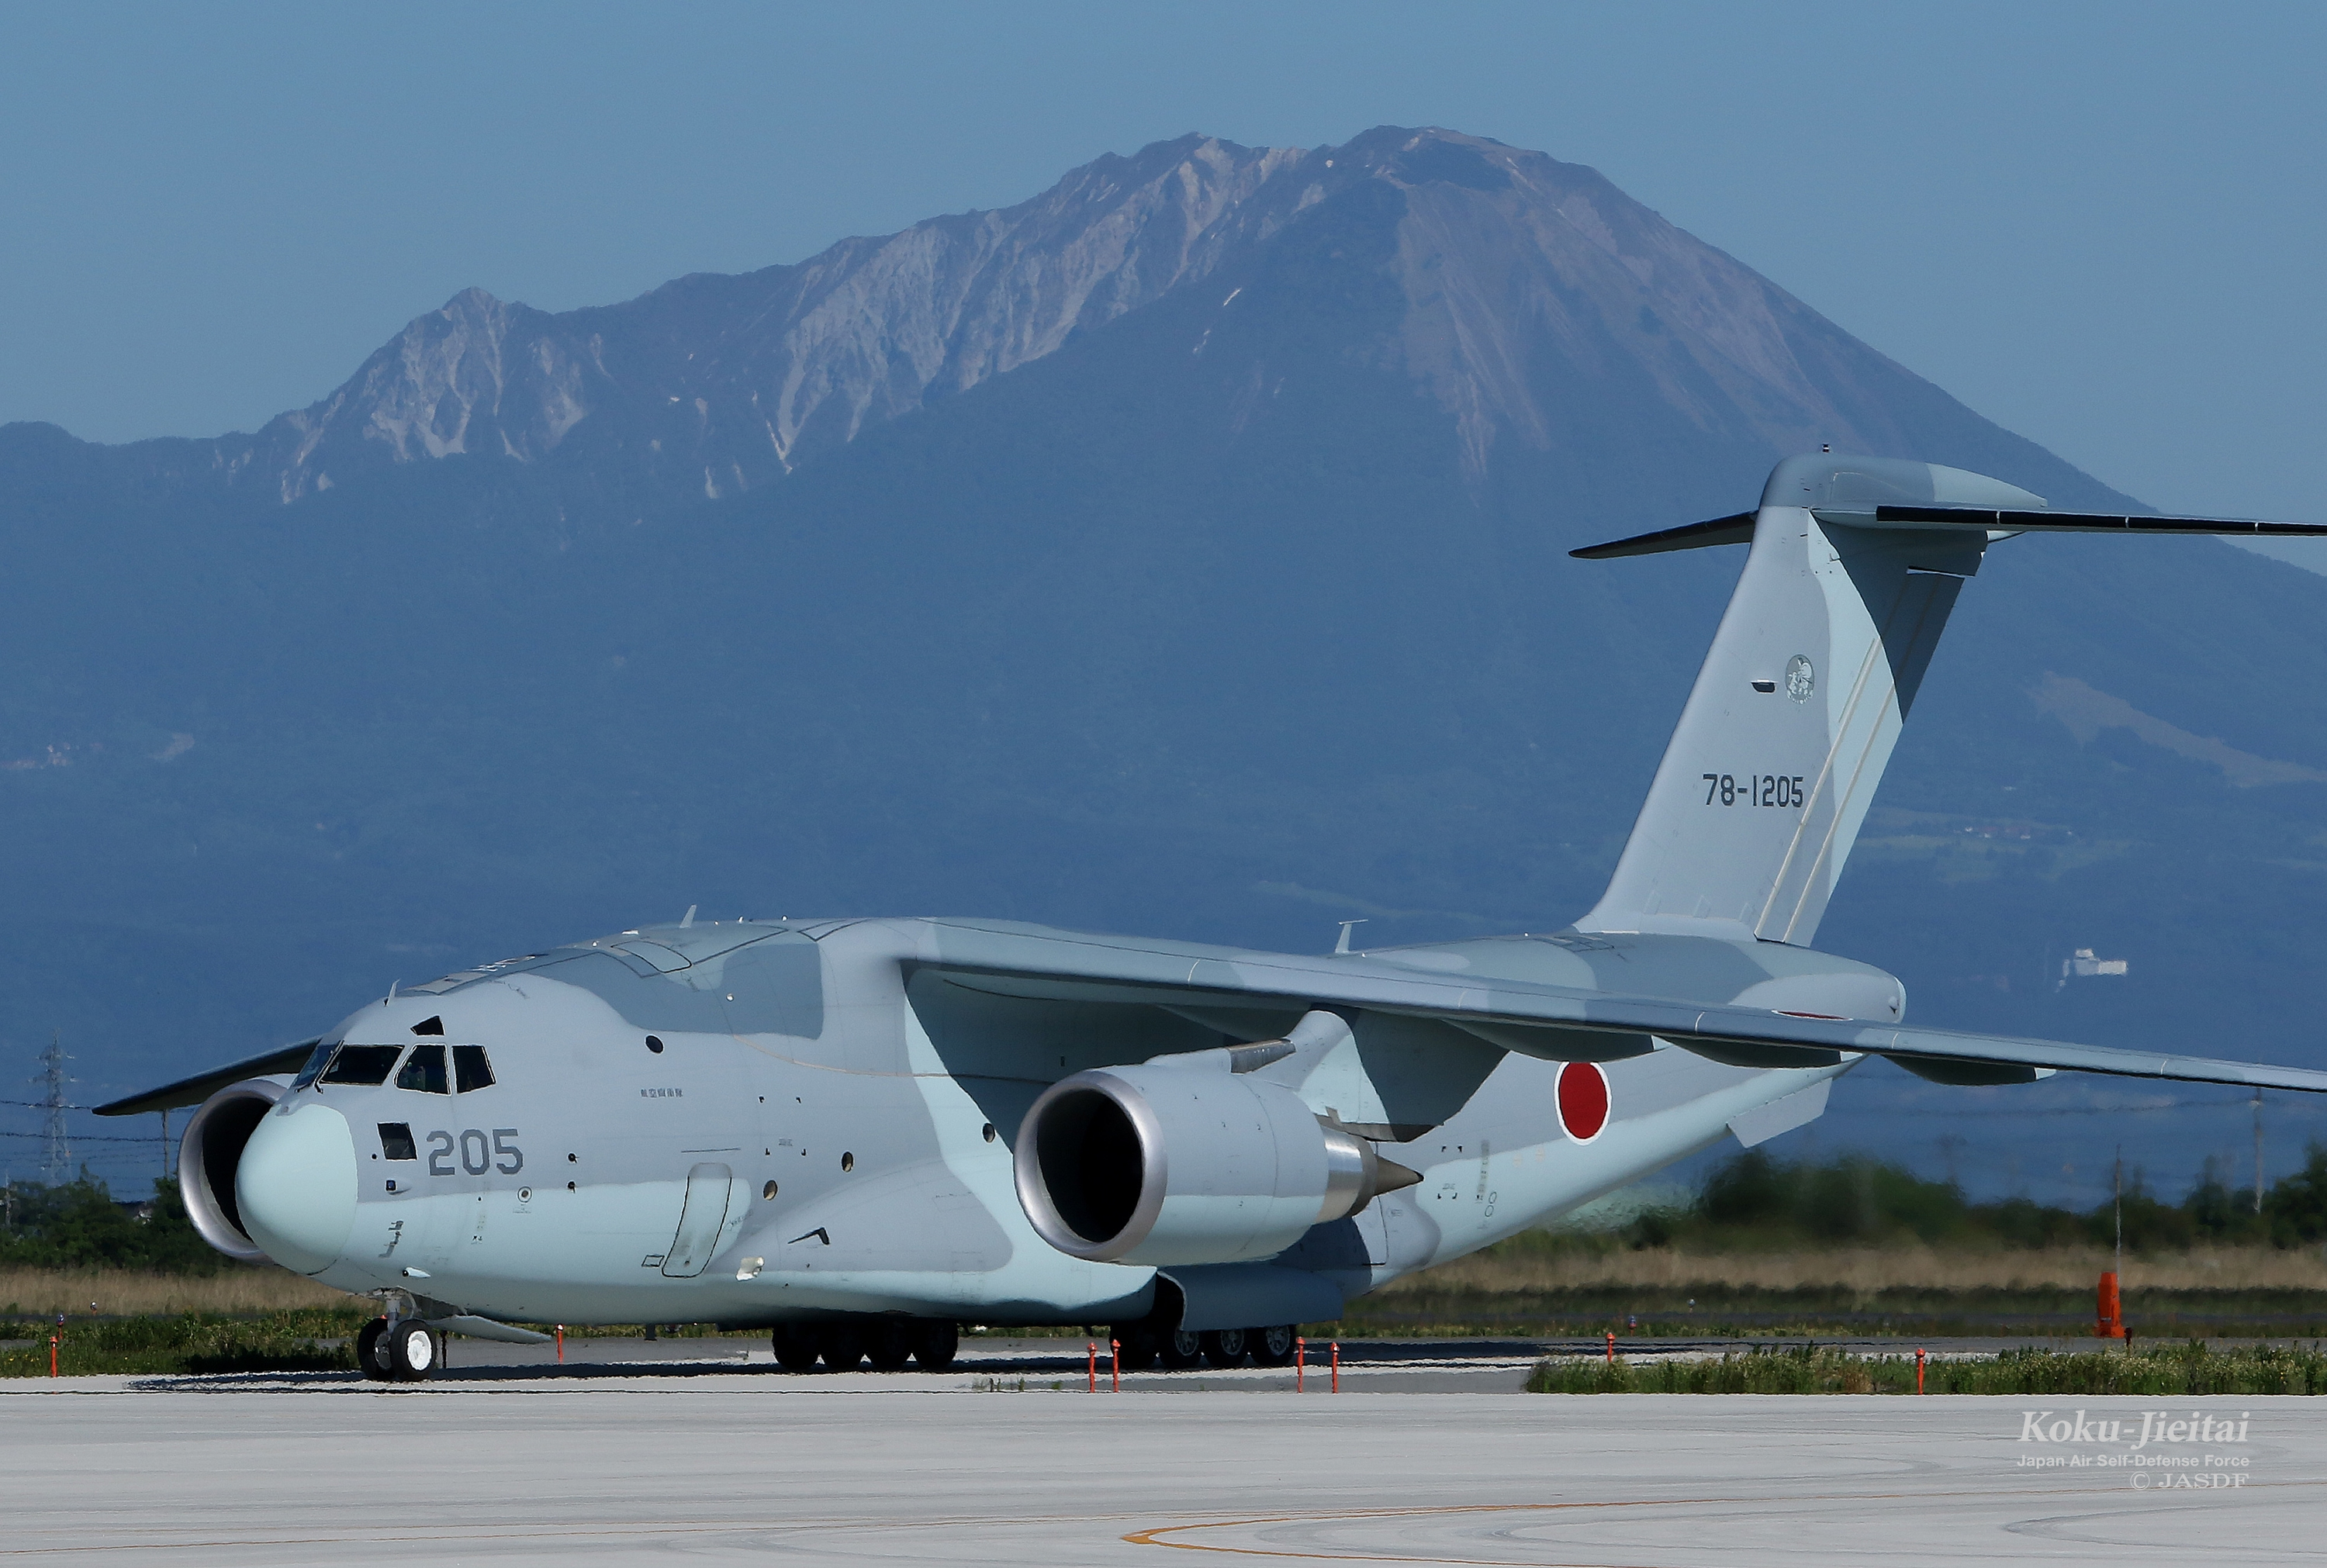airplane: (91, 443, 2327, 1382)
